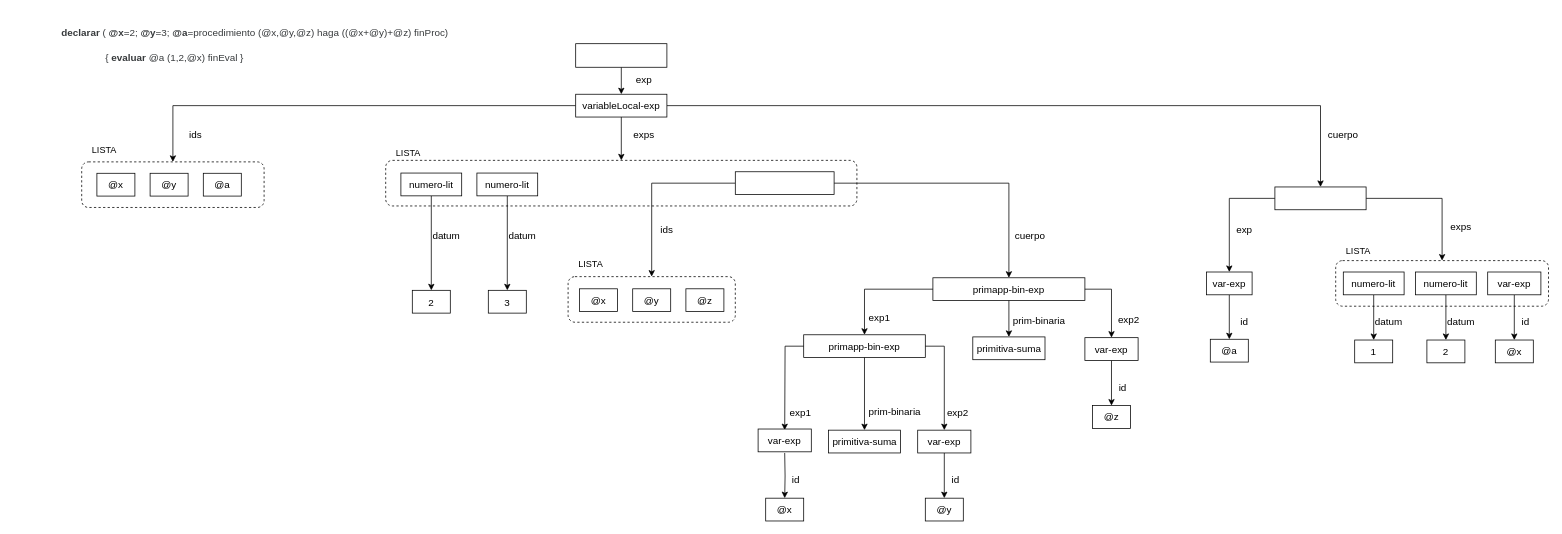
Some shapes in this 1562 by 534 pixel diagram are drawn without their labels. The centre of each missing label's shape, as x and y in pixels:
app-exp: pixel 1320 198
procedimiento-ex: pixel 784 183
un-progrma: pixel 621 55
